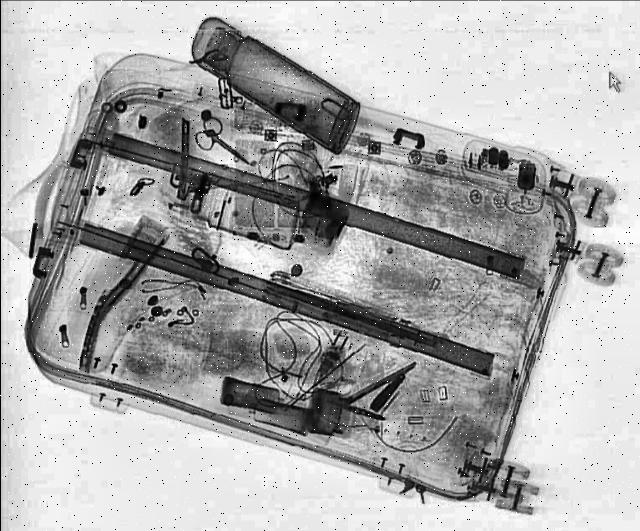Scissors: (183, 115, 265, 175)
